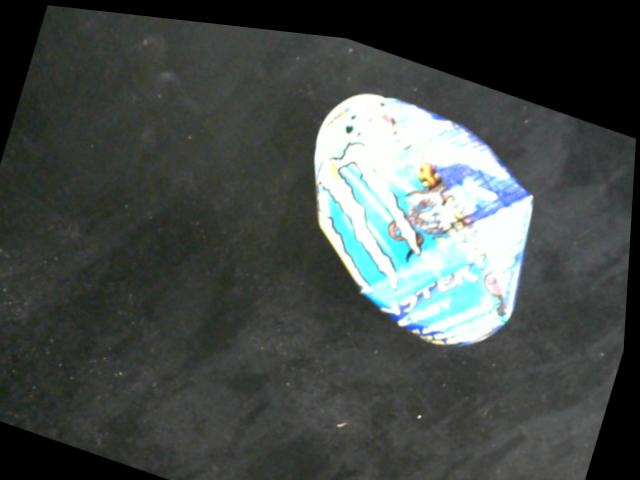can: (309, 71, 542, 340)
